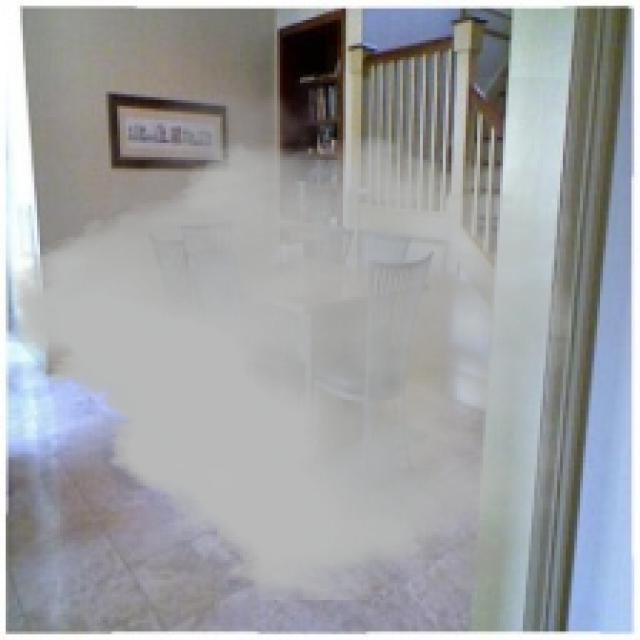Smoke: (11, 77, 572, 609)
